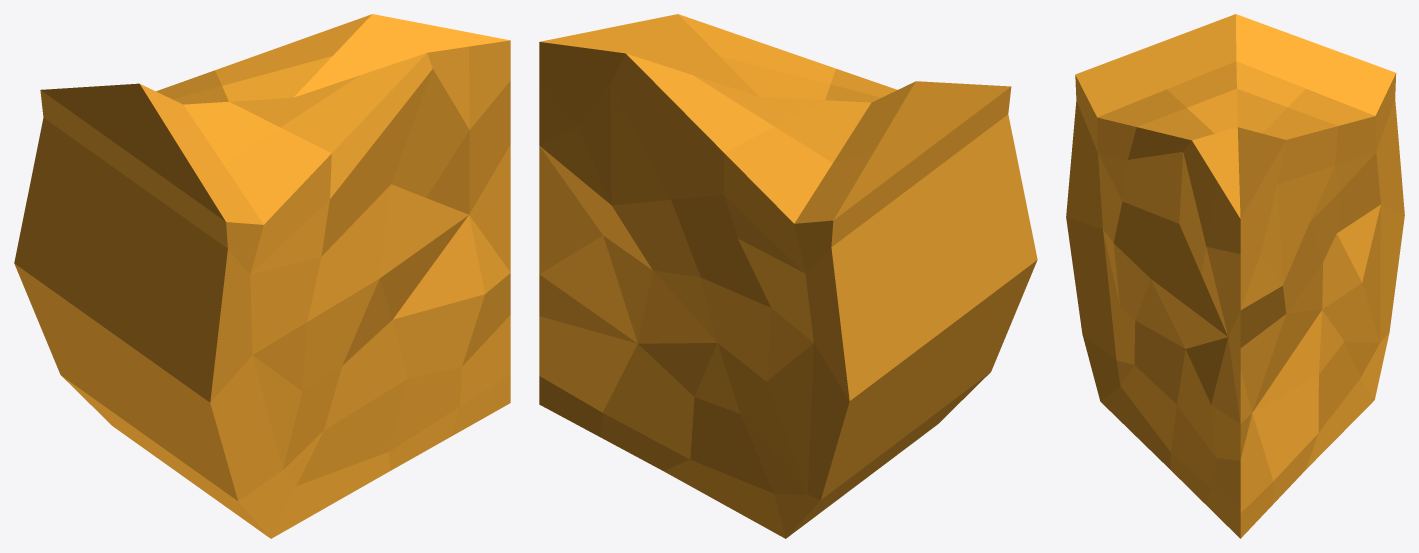
File: SM_Pie_Meat_Cut_Piece.fbx
3 renders of one model, left to right at view 1: azimuth 30°, elevation 25°; view 2: azimuth 150°, elevation 25°; view 3: azimuth 270°, elevation 25°, orthographic. The views are drawn at different scales.
Parts seen in each view (by area): view 1: pie-meat-cut-piece; view 2: pie-meat-cut-piece; view 3: pie-meat-cut-piece.
Boxes of the visible parts, left/top/right/bottom form: pie-meat-cut-piece: left=14, top=14, right=510, bottom=538; pie-meat-cut-piece: left=539, top=14, right=1037, bottom=538; pie-meat-cut-piece: left=1066, top=14, right=1404, bottom=538.
Size of the model in its own units: 0.1312 by 0.1282 by 0.1081.
